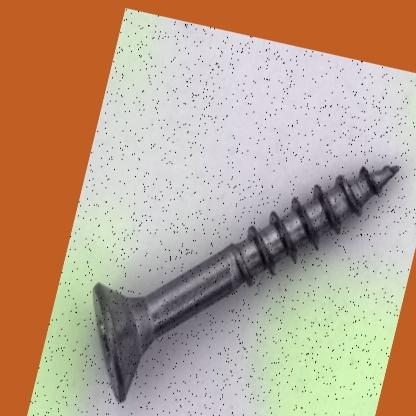metal: (92, 163, 400, 402)
